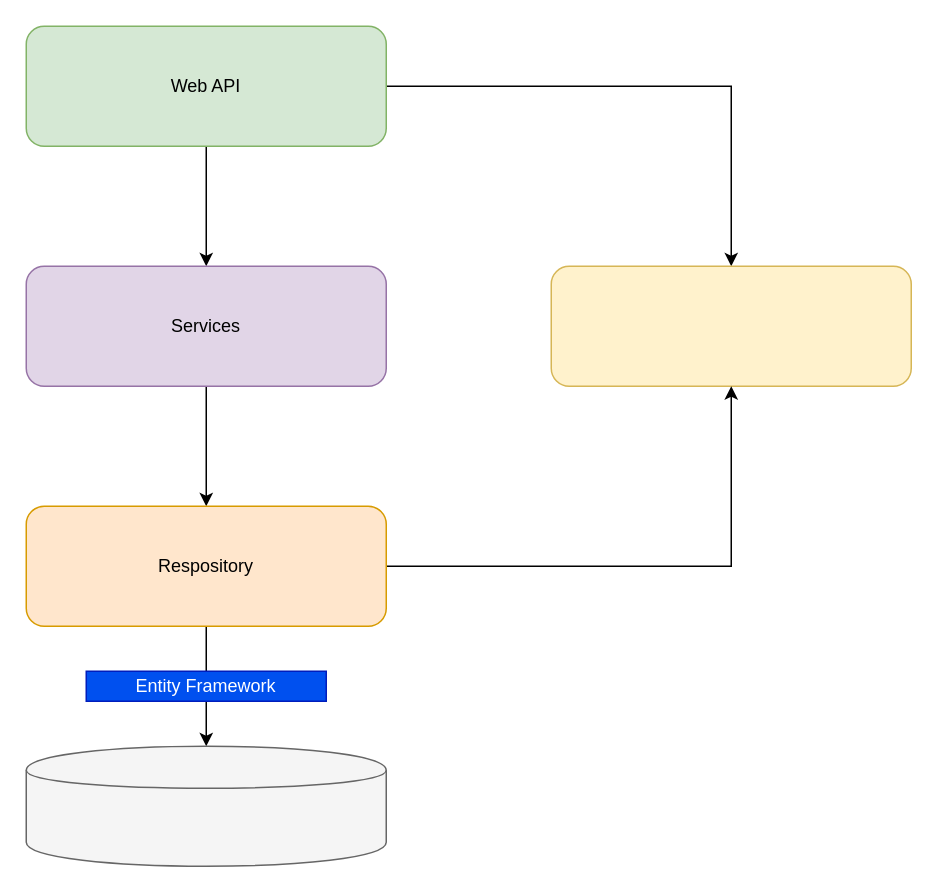
Some shapes in this 938 by 893 pixel diagram are drawn without their labels. Here are the shapes that lost their labels. From the top down, the box of each, then its label:
(550, 265, 911, 386): Entity Models
(25, 745, 386, 866): SQL Database
